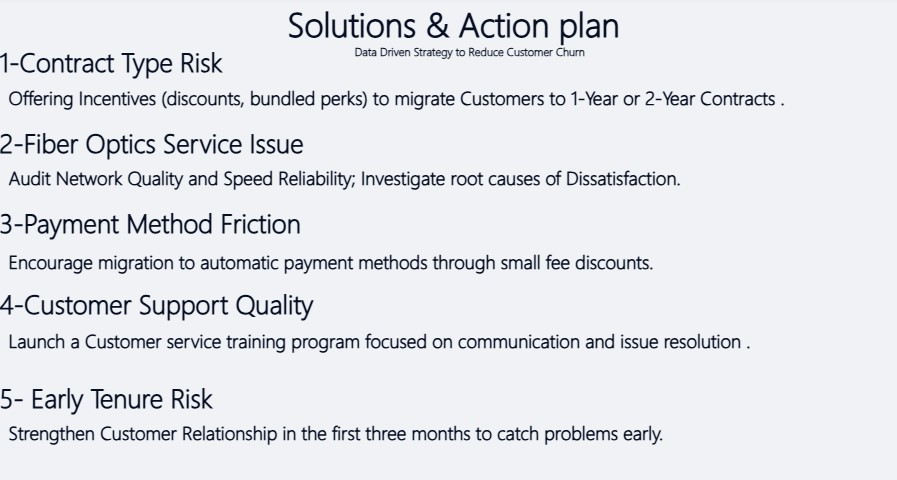

What the dashboard file says about the page in this screenshot:
{"tool":"powerbi","page":{"name":"Solutions","canvas":[1280,720],"ordinal":1},"visuals":[{"type":"textbox","box":[0,61.1,327.7,280],"z":0},{"type":"textbox","box":[406,0,525.8,280],"z":1000},{"type":"textbox","box":[12.2,118.6,1145.8,83.2],"z":2000},{"type":"textbox","box":[0,174.9,529.5,280],"z":3000},{"type":"textbox","box":[12.2,231.1,977,96.6],"z":4000},{"type":"textbox","box":[12.2,461,1062.6,150.4],"z":5000},{"type":"textbox","box":[0,288.6,529,201],"z":6000},{"type":"textbox","box":[12.2,349.7,933,150.4],"z":7000},{"type":"textbox","box":[0,402.3,529,150],"z":8000},{"type":"textbox","box":[0,535.6,325.3,69.7],"z":9000},{"type":"textbox","box":[12.2,591.9,1210.6,99],"z":10000},{"type":"textbox","box":[321.6,61.1,694,150],"z":11000}]}

Visuals, with their boxes on the page's 1280x720 design canvas (x1, y1, x2, y2). These are canvas units, not pixel positions in the 897x480 screenshot, which may show the page scaled, cropped or inside an application window:
textbox: [0, 61, 328, 341]
textbox: [406, 0, 932, 280]
textbox: [12, 119, 1158, 202]
textbox: [0, 175, 530, 455]
textbox: [12, 231, 989, 328]
textbox: [12, 461, 1075, 611]
textbox: [0, 289, 529, 490]
textbox: [12, 350, 945, 500]
textbox: [0, 402, 529, 552]
textbox: [0, 536, 325, 605]
textbox: [12, 592, 1223, 691]
textbox: [322, 61, 1016, 211]
